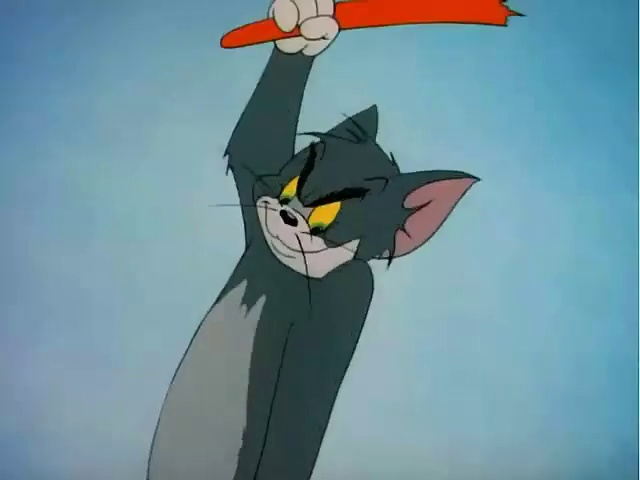tom: (158, 19, 517, 480)
